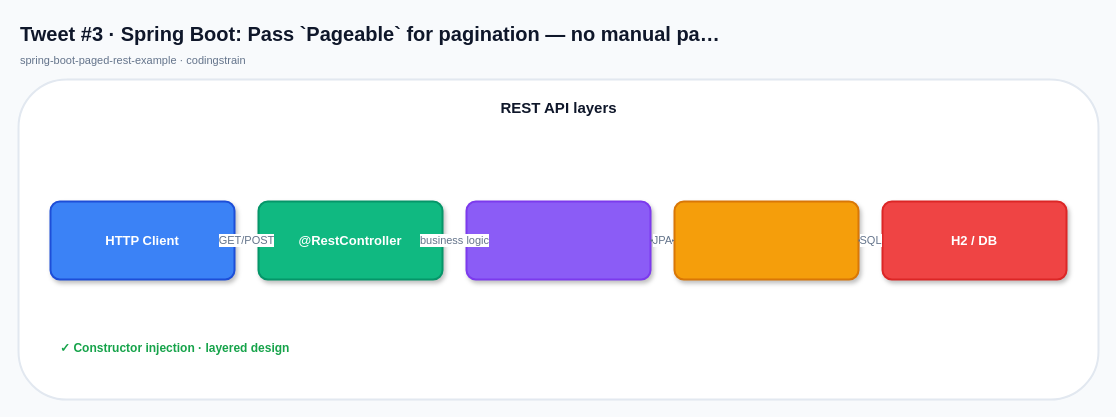
The diagram is 1116 pixels wide and 417 high, and some of its shapes have lost their labels. The shapes that lost their labels are listed below. From the top down, each one's centre as x and y in pixels, then its label:
At (x=559, y=241): "Service".
At (x=767, y=241): "Repository".
